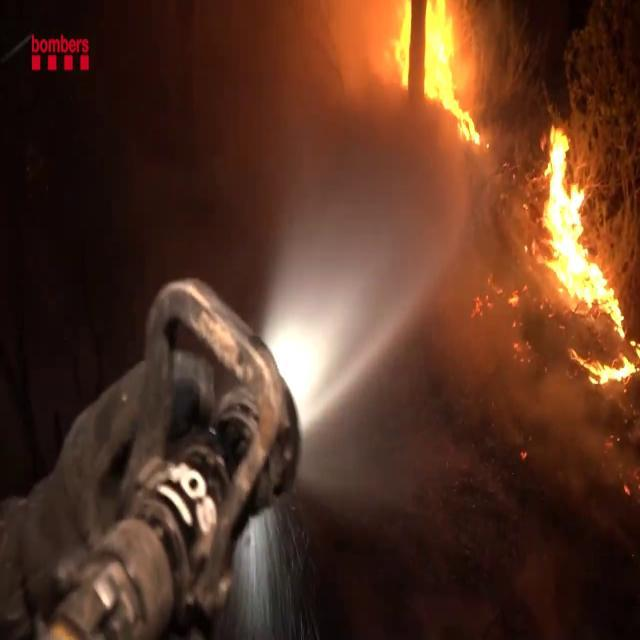Fire: (528, 119, 640, 389), (385, 1, 487, 152)
